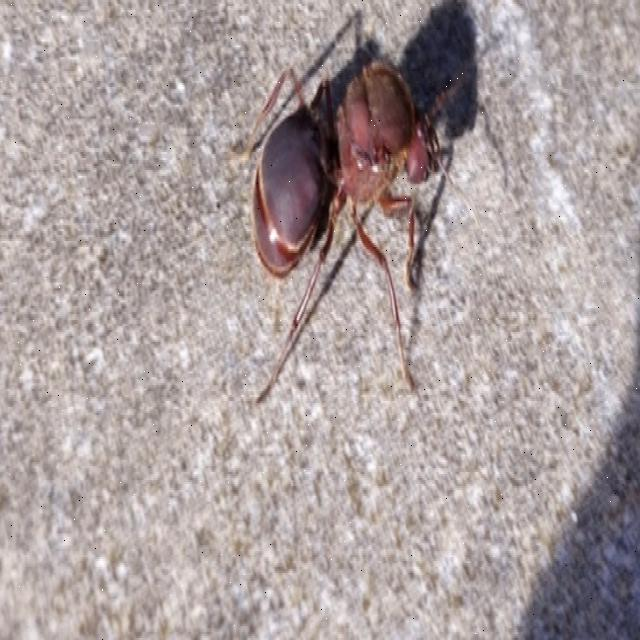Alive-Female-Dealate: (223, 56, 480, 408)
